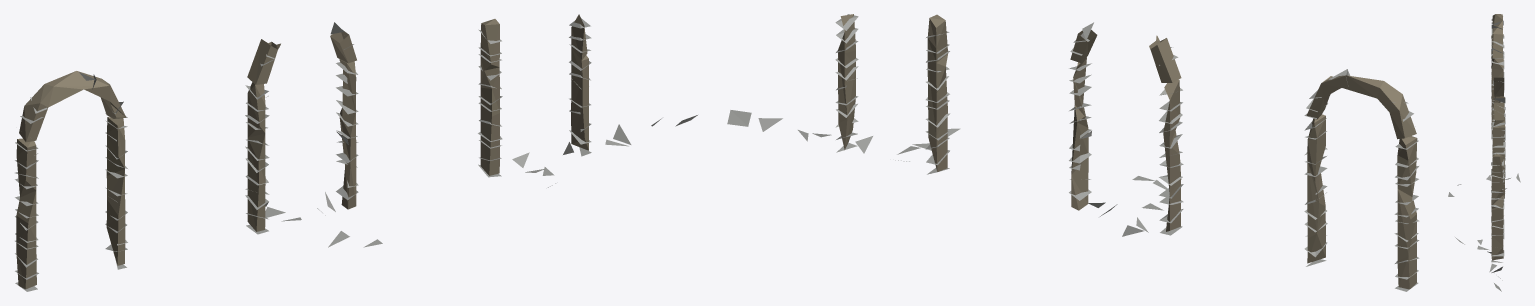
File: arch-ruins.lod2.glb
The picture shows the model from 3 angles, left to right: view 1: azimuth 30°, elevation 25°; view 2: azimuth 150°, elevation 25°; view 3: azimuth 270°, elevation 25°; orthographic projection. The views are drawn at different scales.
Parts seen in each view (by area): view 1: Object_5; view 2: Object_5; view 3: Object_5.
Part boxes in pixels (<box>): Object_5: <box>15,14,697,291</box>; Object_5: <box>727,14,1419,291</box>; Object_5: <box>1448,14,1520,291</box>.
Size of the model in its own units: 17.48 by 4.9 by 2.98.
